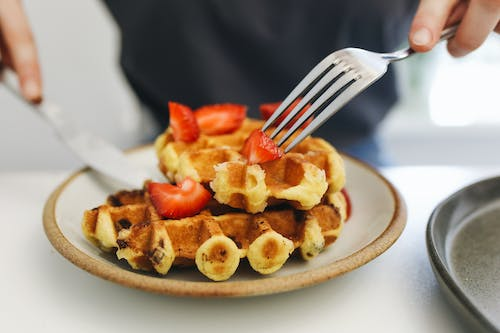knife: (0, 59, 161, 191)
